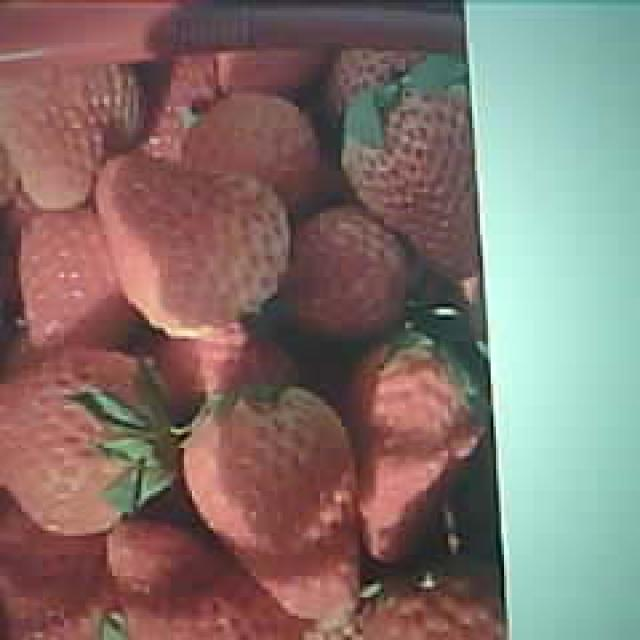strawberry: (185, 384, 358, 613), (100, 152, 286, 338), (0, 348, 169, 535)
